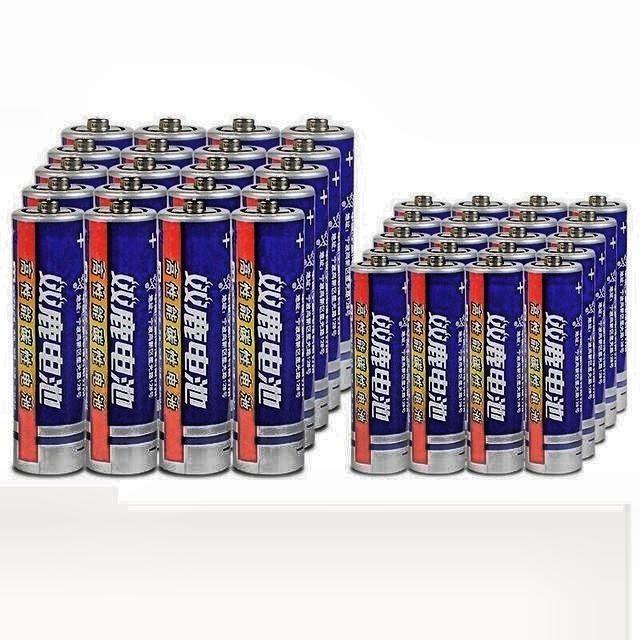battery: (12, 118, 352, 475), (354, 194, 628, 474)
